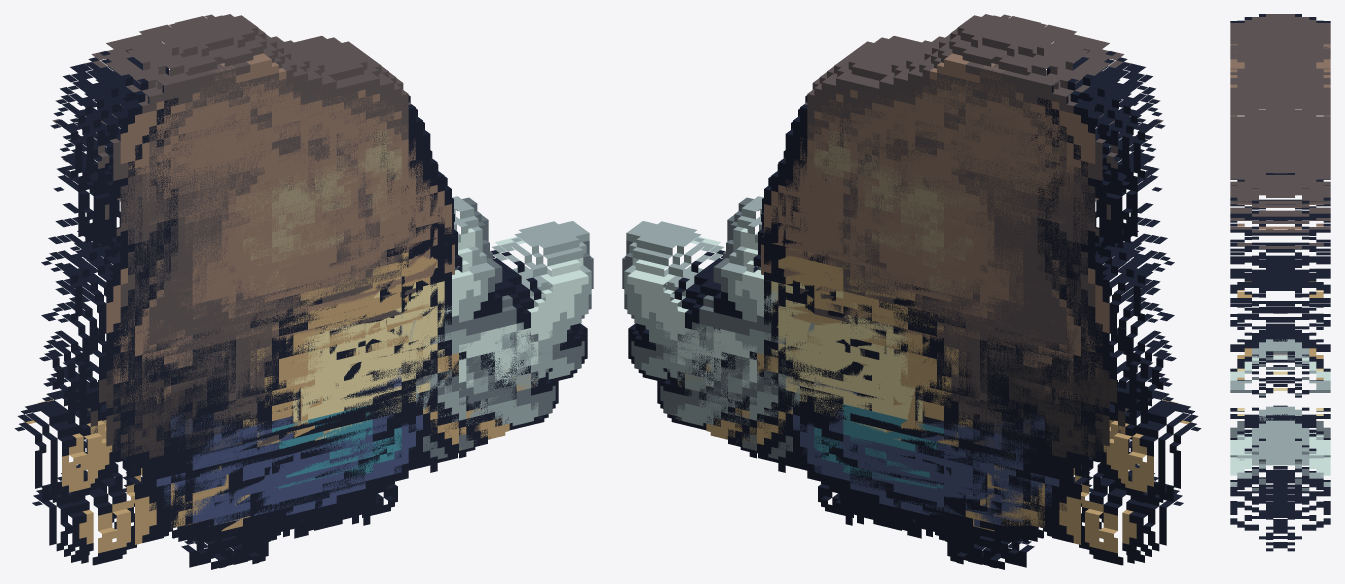
The model's file is faca_correndo.glb.
The picture shows the model from 3 angles, left to right: view 1: azimuth 30°, elevation 25°; view 2: azimuth 150°, elevation 25°; view 3: azimuth 270°, elevation 25°; orthographic projection. The views are drawn at different scales.
Visible parts, largest first — view 1: q0, q1, q2, q4, q3, q5; view 2: q0, q1, q2, q4, q3, q5; view 3: q1, q0, q4, q2, q3, q5.
Boxes of the visible parts, x1,y1,x2,y2 form: q0: (68, 38, 552, 561); q1: (14, 14, 593, 504); q2: (32, 81, 566, 565); q4: (39, 23, 502, 504); q3: (53, 49, 523, 569); q5: (43, 95, 516, 558); q0: (663, 38, 1147, 561); q1: (622, 14, 1201, 504); q2: (649, 81, 1183, 565); q4: (713, 23, 1176, 505); q3: (692, 48, 1162, 569); q5: (699, 95, 1172, 559); q1: (1230, 34, 1330, 519); q0: (1230, 53, 1330, 536); q4: (1230, 14, 1330, 527); q2: (1230, 66, 1330, 539); q3: (1230, 53, 1330, 548); q5: (1230, 97, 1330, 551).
Size of the model in its own units: 77 by 71 by 14.
Materials: 1 (1 with a texture image).
